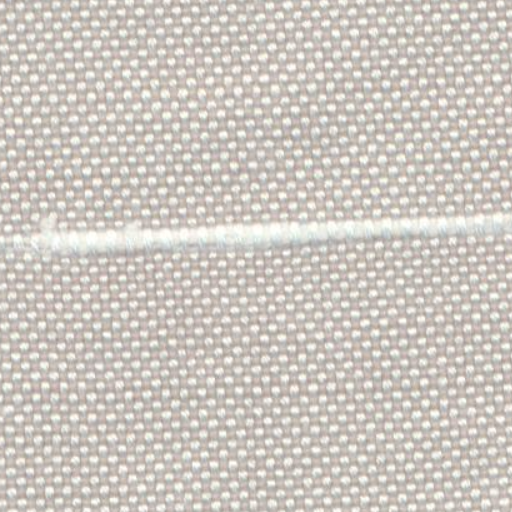DaiSha: (18, 194, 504, 268)
